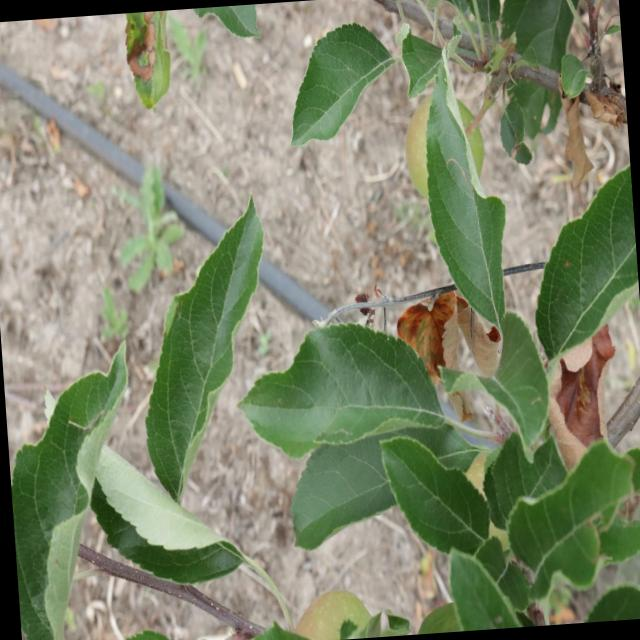-FireBlight-: (398, 288, 508, 406), (554, 317, 618, 459)
